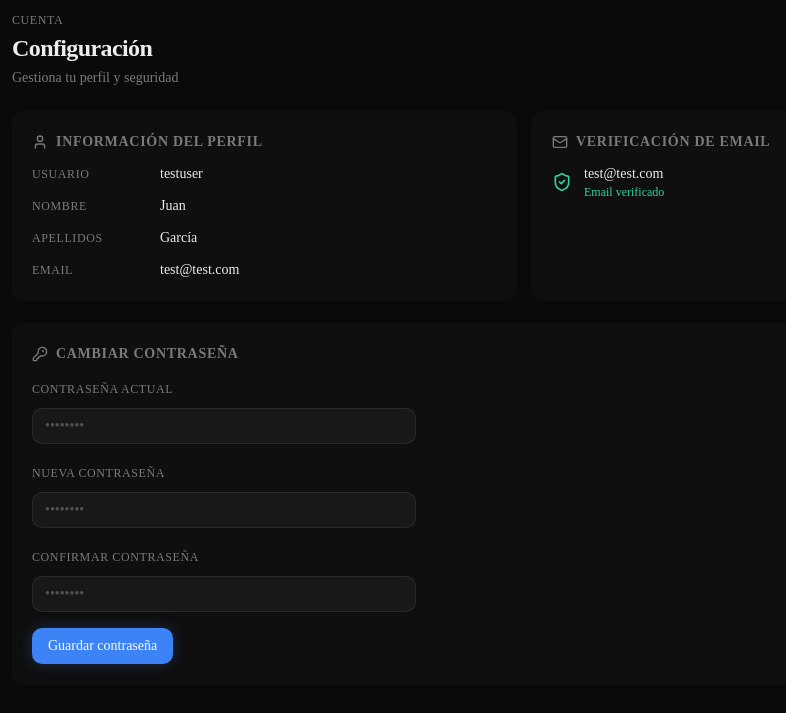
it: SettingsPage › shows validation error when passwords do not match
This screenshot has width=786, height=713.
Type "oldpass" into the password field labelled "Contraseña actual" at (224, 426), box [32,408,416,444]
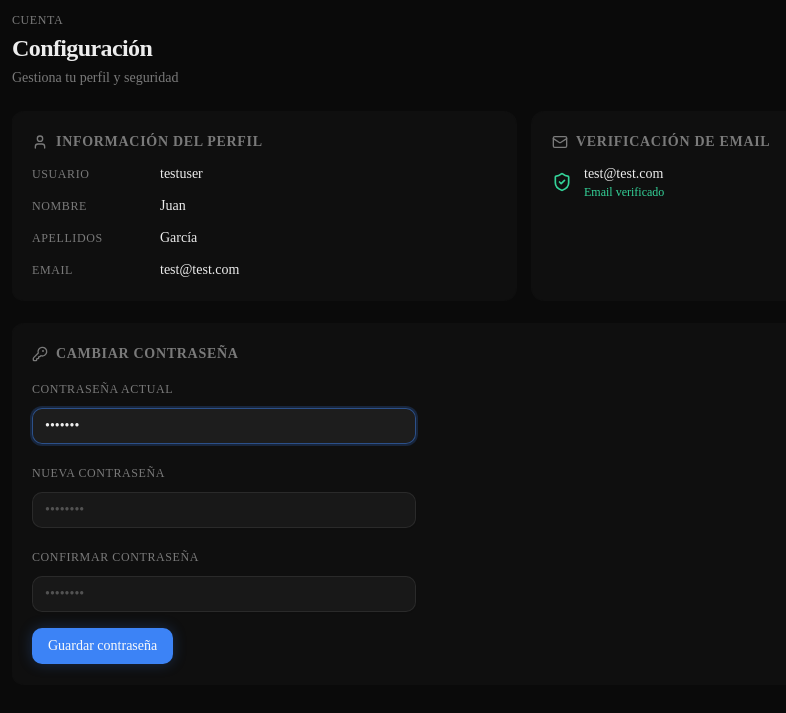
Type "newpass123" into the password field labelled "Nueva contraseña" at (224, 510), box [32,492,416,528]
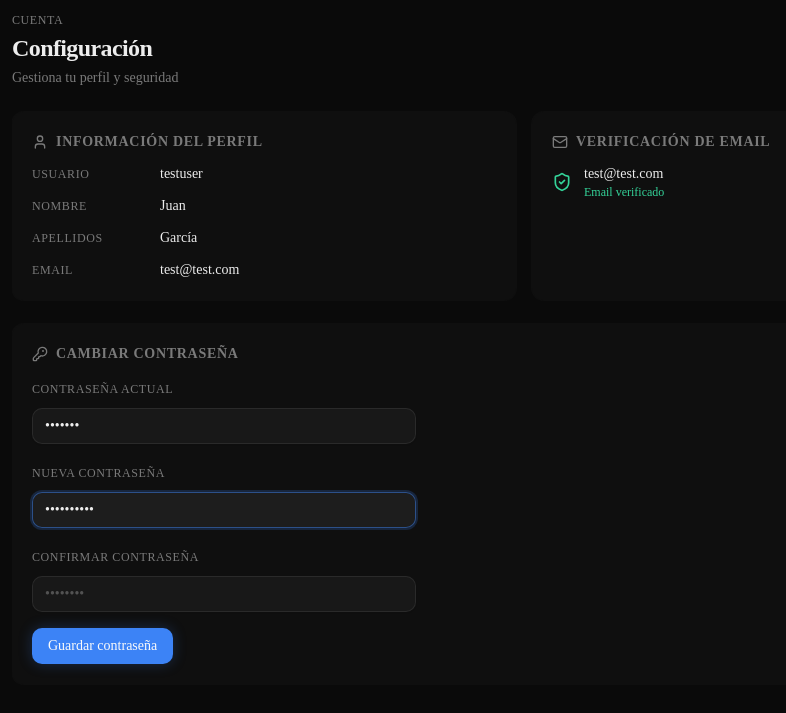
Type "different123" into the password field labelled "Confirmar contraseña" at (224, 594), box [32,576,416,612]
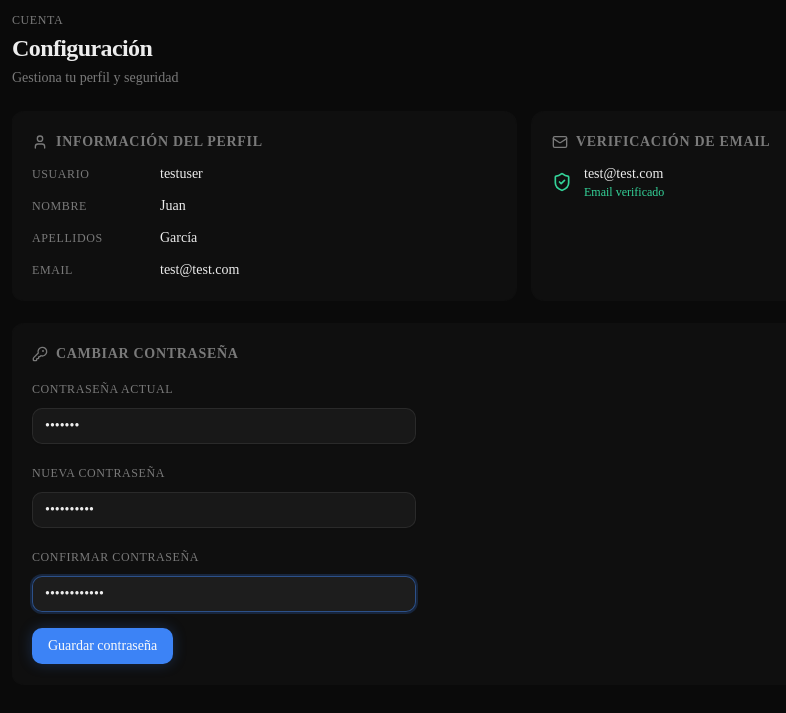
Click the button "Guardar contraseña" at (103, 646), box [32,628,173,664]
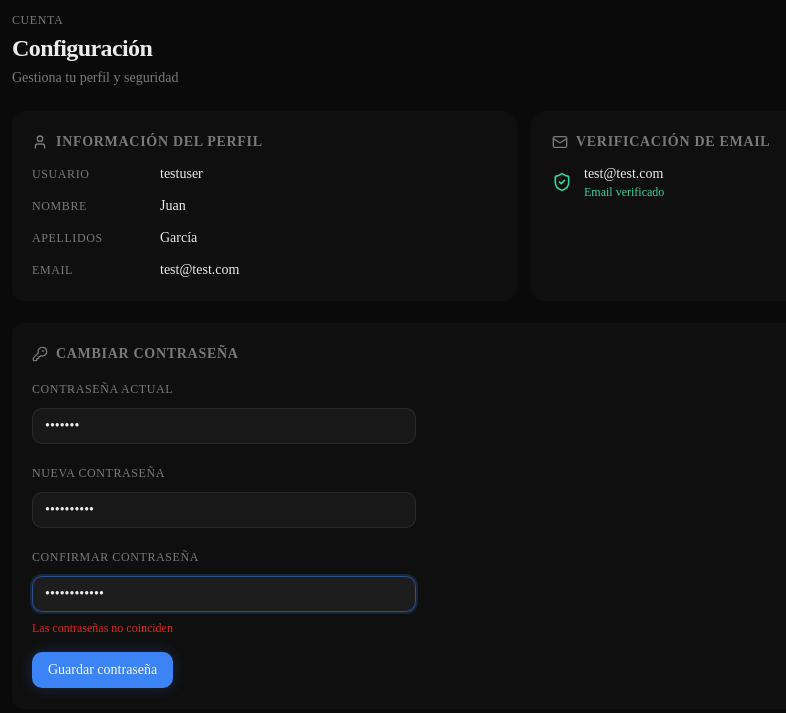
Now the text "Las contraseñas no coinciden" is shown, box [32,621,173,635]
